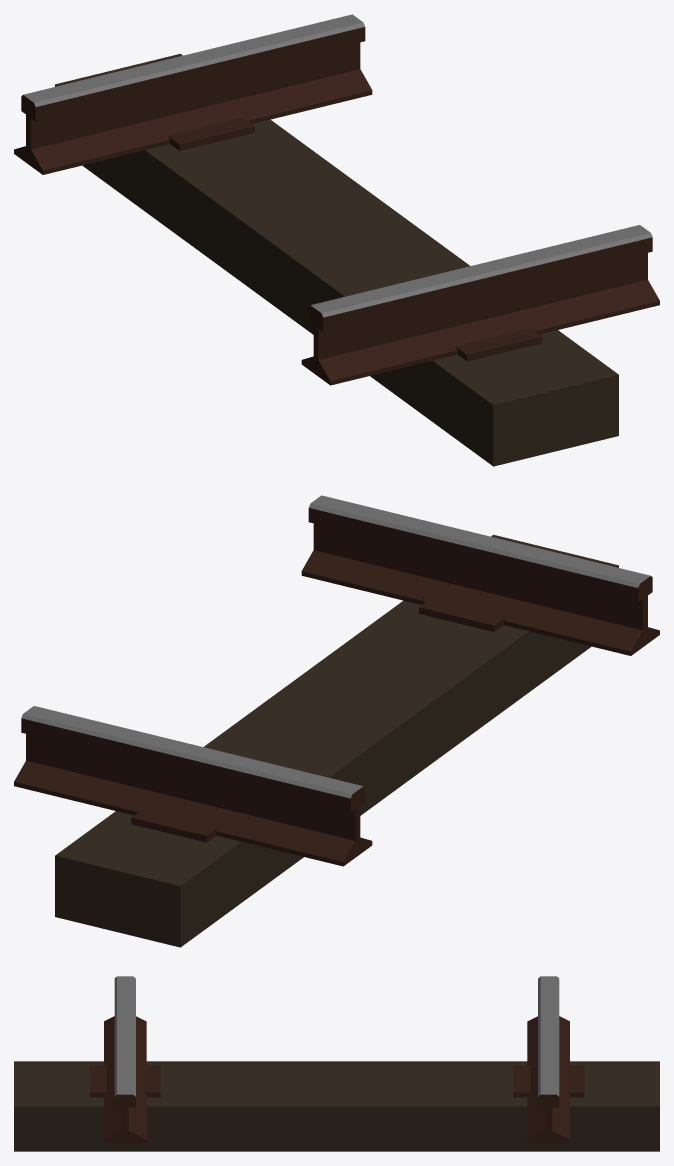
File: track_1m.dae
The picture shows the model from 3 angles, top to bottom: view 1: azimuth 30°, elevation 25°; view 2: azimuth 150°, elevation 25°; view 3: azimuth 270°, elevation 25°; orthographic projection. The views are drawn at different scales.
Parts seen in each view (by area): view 1: RAIL_BASE (×3), RAIL_LEFT (×2), RAIL_RIGHT (×2); view 2: RAIL_BASE (×3), RAIL_RIGHT (×2), RAIL_LEFT (×2); view 3: RAIL_BASE (×3), RAIL_RIGHT (×2), RAIL_LEFT (×2).
Boxes of the visible parts, <box> form: RAIL_BASE (×3): <box>55,53,618,466</box>; RAIL_LEFT (×2): <box>301,225,659,385</box>; RAIL_RIGHT (×2): <box>14,14,372,174</box>; RAIL_BASE (×3): <box>55,534,618,947</box>; RAIL_RIGHT (×2): <box>14,706,372,866</box>; RAIL_LEFT (×2): <box>301,495,659,655</box>; RAIL_BASE (×3): <box>14,1061,659,1151</box>; RAIL_RIGHT (×2): <box>527,976,569,1143</box>; RAIL_LEFT (×2): <box>104,976,146,1143</box>.
Bounding box in the file's own units: 39.37 × 90.74 × 14.5.
